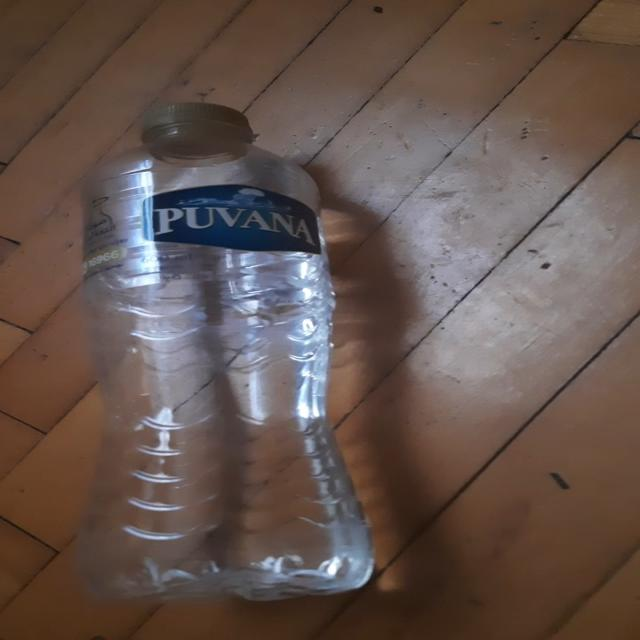Plastic: (68, 100, 377, 620)
